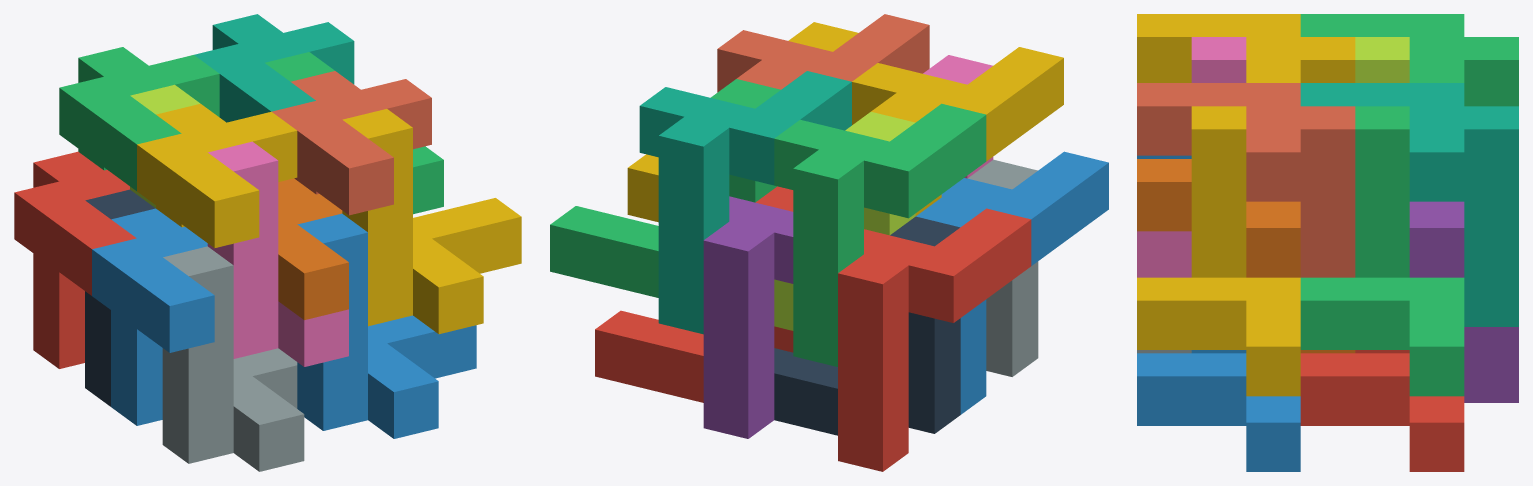
The model's file is tiling.obj.
The picture shows the model from 3 angles, left to right: view 1: azimuth 30°, elevation 25°; view 2: azimuth 150°, elevation 25°; view 3: azimuth 270°, elevation 25°; orthographic projection. The views are drawn at different scales.
Parts seen in each view (by area): view 1: copy_2_domain_8, copy_2_domain_2, copy_2_domain_6, copy_1_domain_2, copy_1_domain_1, copy_1_domain_4, copy_1_domain_8, copy_1_domain_3, copy_2_domain_4, copy_1_domain_7, copy_1_domain_6, copy_2_domain_1 (+2 smaller); view 2: copy_1_domain_1, copy_1_domain_3, copy_1_domain_7, copy_1_domain_5, copy_1_domain_2, copy_1_domain_4, copy_2_domain_1, copy_2_domain_7, copy_1_domain_8, copy_2_domain_5, copy_2_domain_2, copy_2_domain_8 (+2 smaller); view 3: copy_2_domain_8, copy_2_domain_7, copy_1_domain_8, copy_1_domain_7, copy_2_domain_5, copy_2_domain_6, copy_1_domain_4, copy_1_domain_3, copy_1_domain_5, copy_1_domain_6, copy_2_domain_4, copy_2_domain_3.
Part boxes in pixels (x1,y1,x2,y2): copy_2_domain_8: (342, 109, 521, 334); copy_2_domain_2: (162, 246, 304, 471); copy_2_domain_6: (297, 213, 476, 438); copy_1_domain_2: (92, 208, 214, 425); copy_1_domain_1: (14, 151, 136, 368); copy_1_domain_4: (137, 103, 297, 248); copy_1_domain_8: (272, 71, 431, 215); copy_1_domain_3: (59, 47, 219, 190); copy_2_domain_4: (207, 141, 348, 366); copy_1_domain_7: (194, 14, 354, 122); copy_1_domain_6: (278, 178, 348, 320); copy_2_domain_1: (85, 189, 155, 406); copy_1_domain_1: (838, 208, 1031, 471); copy_1_domain_3: (774, 103, 986, 366); copy_1_domain_7: (639, 71, 851, 334); copy_1_domain_5: (703, 196, 793, 438); copy_1_domain_2: (916, 151, 1108, 414); copy_1_domain_4: (852, 47, 1063, 215); copy_2_domain_1: (774, 216, 960, 435); copy_2_domain_7: (550, 79, 780, 297); copy_1_domain_8: (717, 14, 929, 92); copy_2_domain_5: (595, 186, 793, 402); copy_2_domain_2: (968, 159, 1038, 376); copy_2_domain_8: (627, 22, 858, 222); copy_2_domain_8: (1137, 106, 1300, 396); copy_2_domain_7: (1300, 106, 1464, 396); copy_1_domain_8: (1137, 83, 1355, 277); copy_1_domain_7: (1300, 83, 1518, 326); copy_2_domain_5: (1300, 350, 1464, 471); copy_2_domain_6: (1137, 350, 1300, 471); copy_1_domain_4: (1137, 14, 1355, 82); copy_1_domain_3: (1300, 14, 1518, 106); copy_1_domain_5: (1409, 201, 1518, 402); copy_1_domain_6: (1137, 159, 1355, 353); copy_2_domain_4: (1137, 37, 1246, 277); copy_2_domain_3: (1355, 37, 1409, 82).
Bounding box in the file's own units: 9 × 6 × 7.
